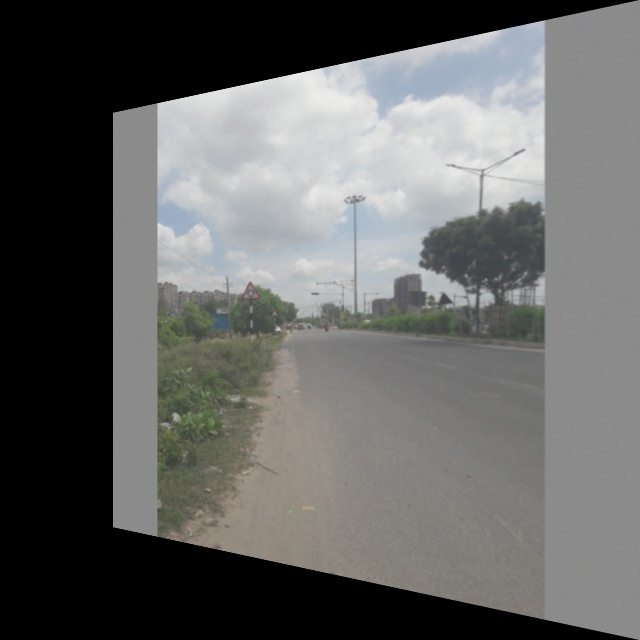Round_About: (239, 278, 263, 303)
